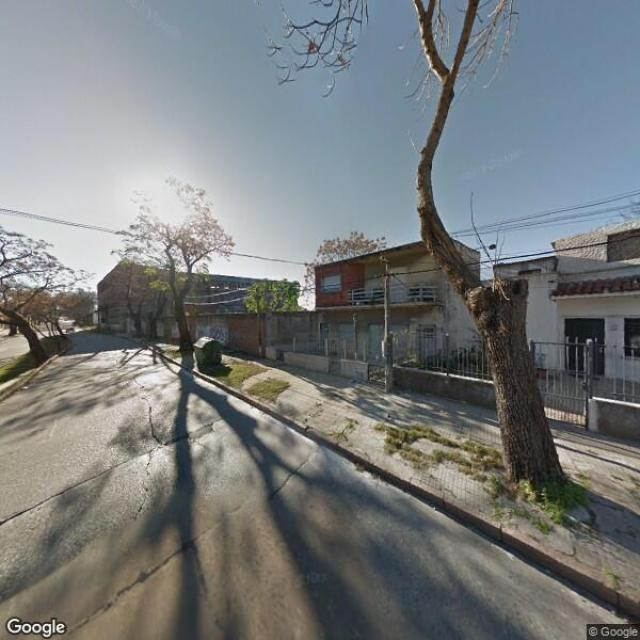garbage container: (187, 332, 235, 376)
